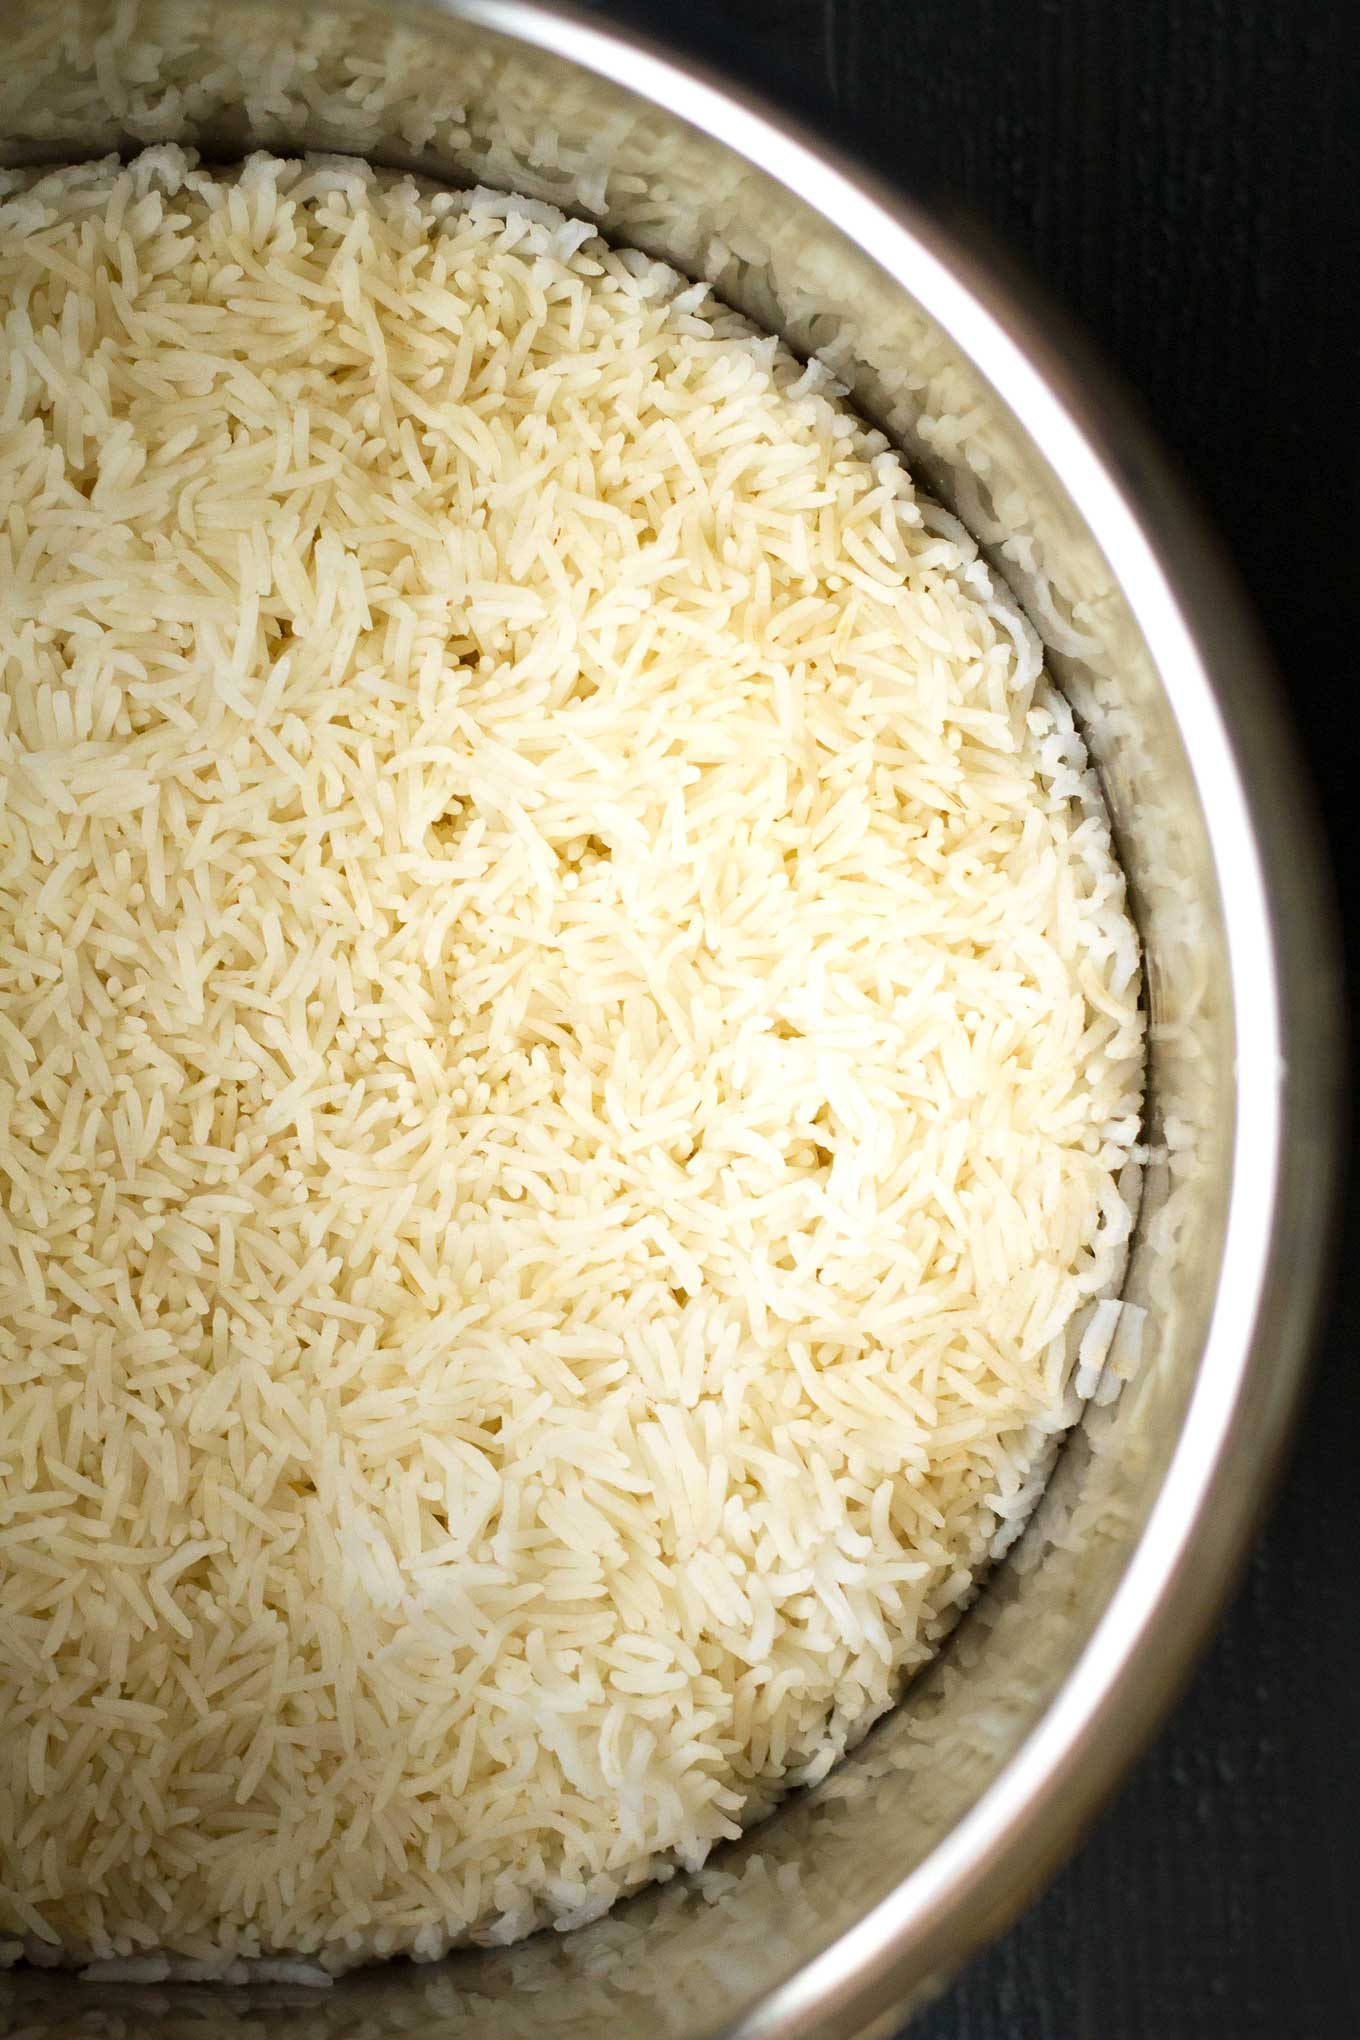rice: (23, 143, 1100, 1963)
